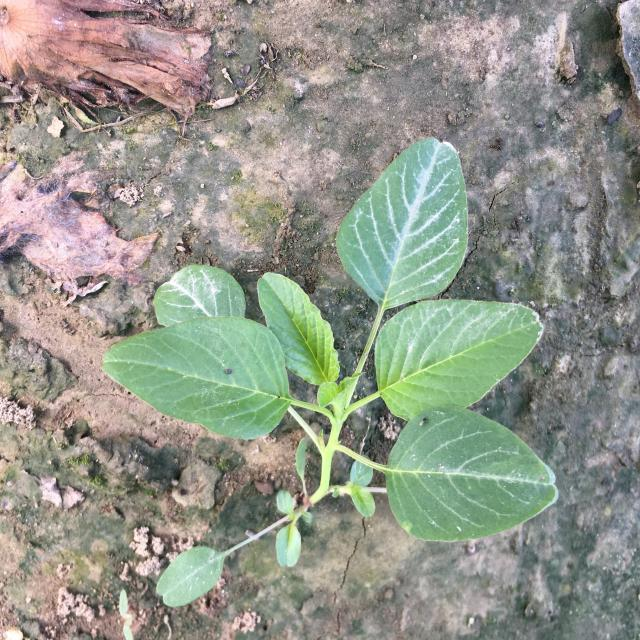PalmerAmaranth: (101, 138, 558, 608)
